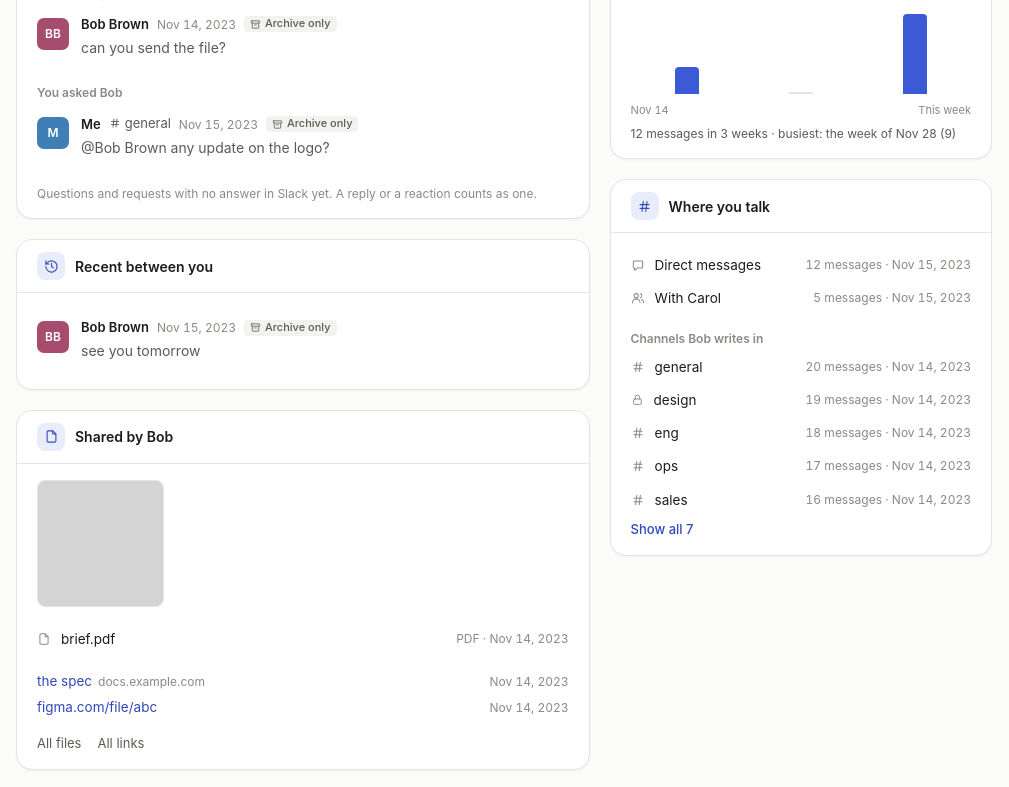
Test: A person’s page › shows where you talk; their channels open their messages there, the rest a click away
This screenshot has width=1009, height=787.
(page scrolled)
Expected: the link "hiring" is not shown
Click the button "Show all 7" at (662, 530), box [631, 520, 694, 539]
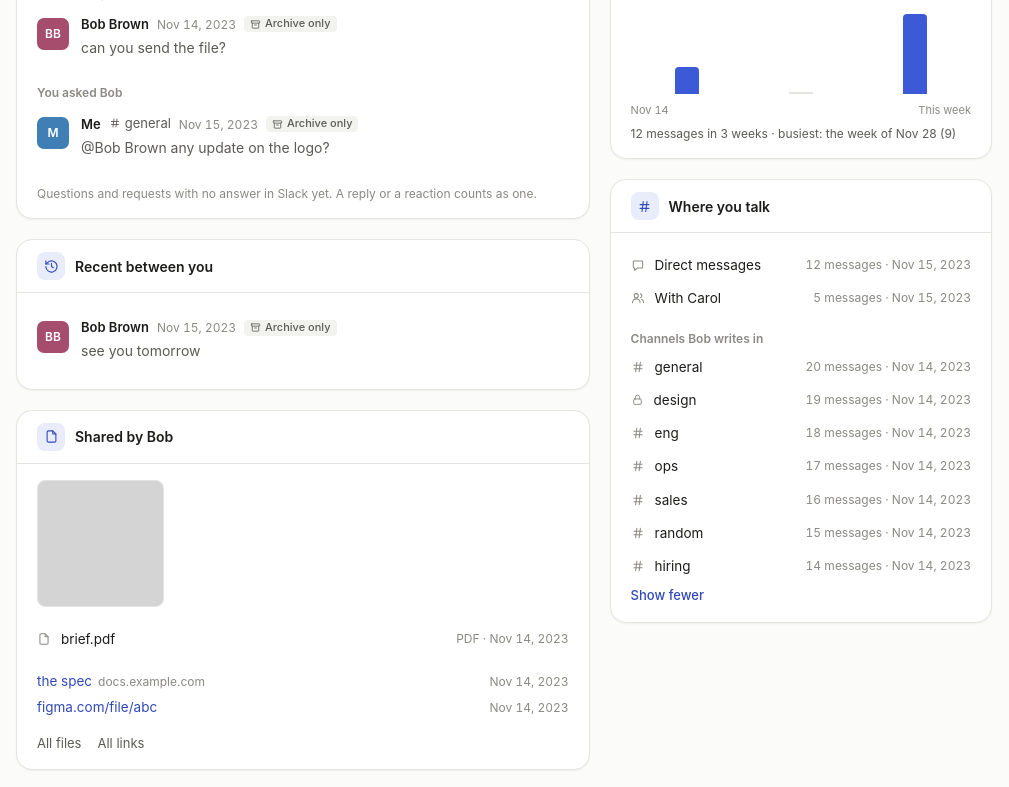
Expected: the link "hiring 14 messages · Nov 14, 2023" is shown, [631, 558, 971, 574]
